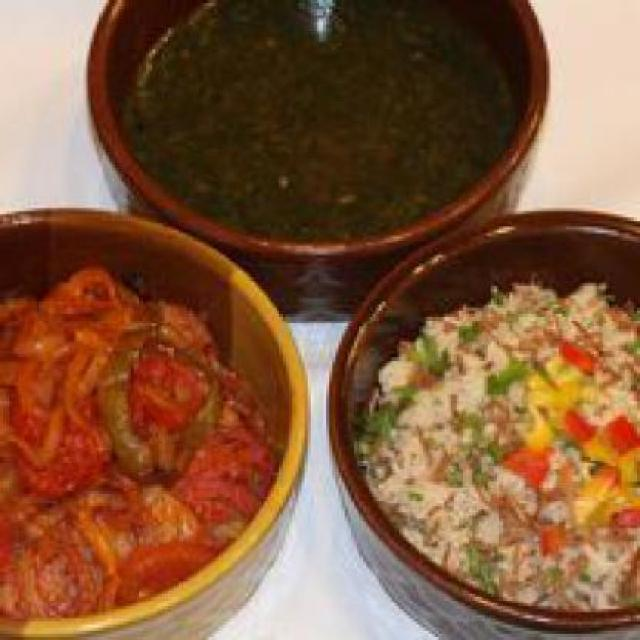eggplant: (3, 244, 277, 622)
molokhia: (112, 2, 538, 227)
